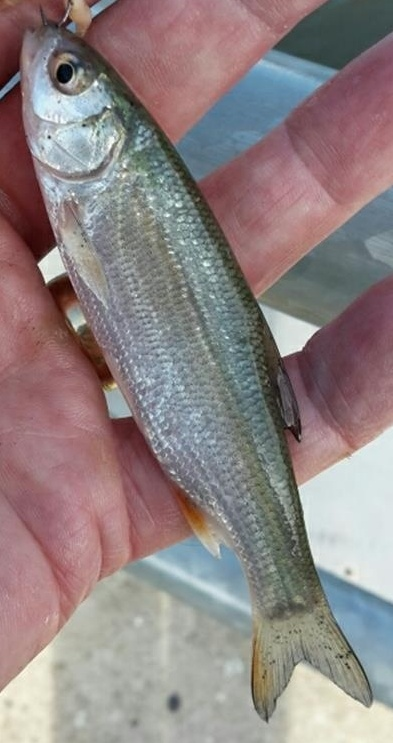Leuciscus leuciscus: (20, 20, 373, 723)
